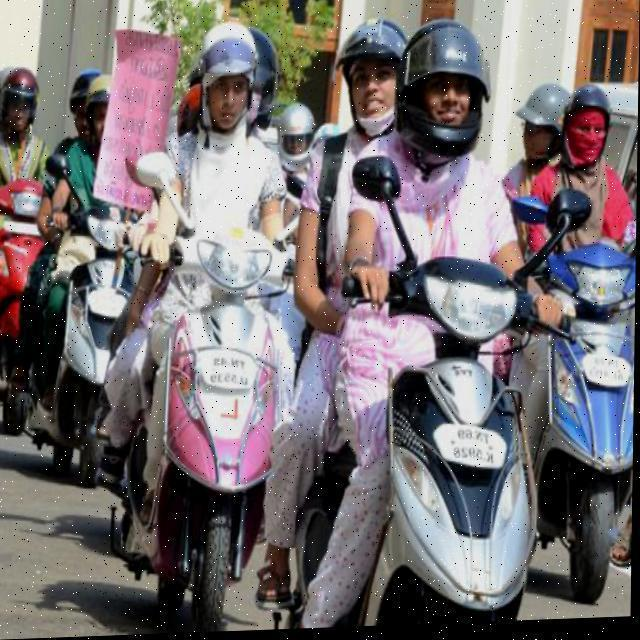Helmet: (394, 20, 495, 162), (196, 16, 262, 140), (556, 85, 620, 183)
